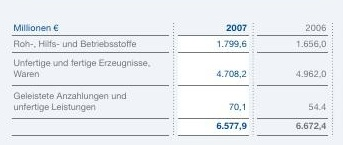table: (0, 0, 343, 145)
